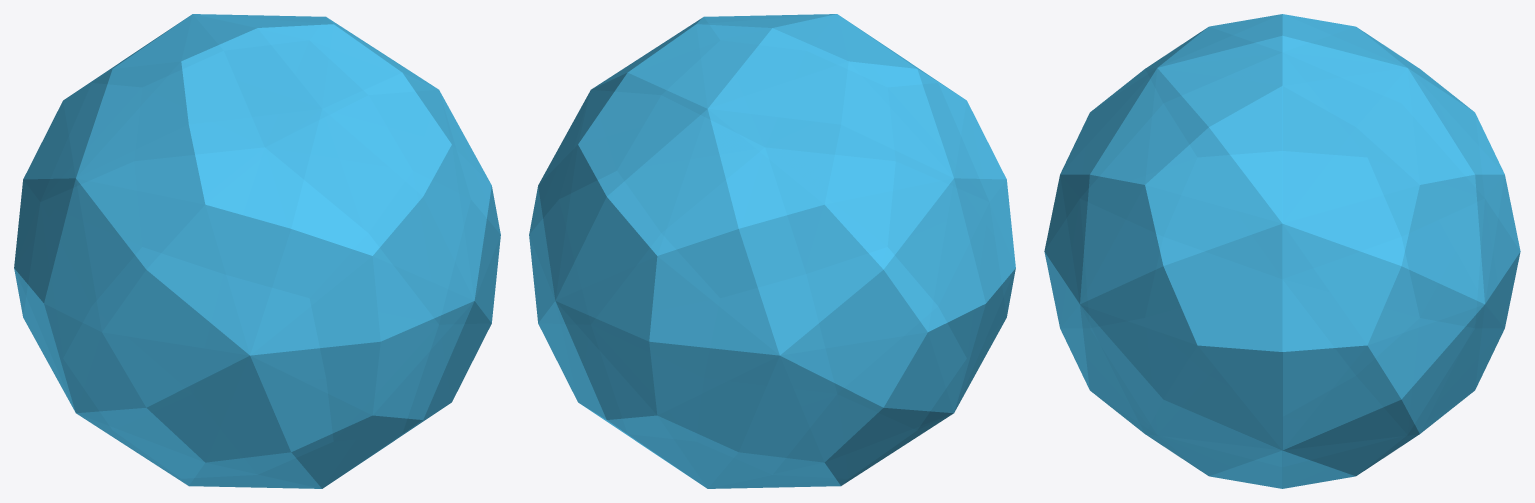
The model's file is BiscribedDisdyakisTriacontahedron.obj.
The picture shows the model from 3 angles, left to right: view 1: azimuth 30°, elevation 25°; view 2: azimuth 150°, elevation 25°; view 3: azimuth 270°, elevation 25°; orthographic projection. The views are drawn at different scales.
Size of the model in its own units: 2 by 2 by 2.
